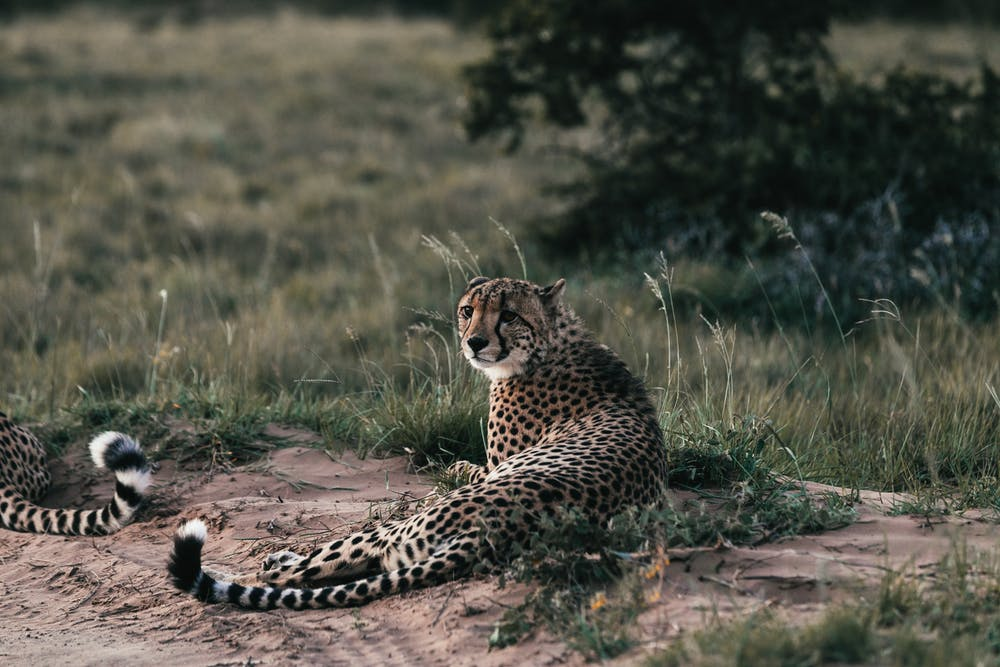cheetah: (439, 267, 569, 386)
